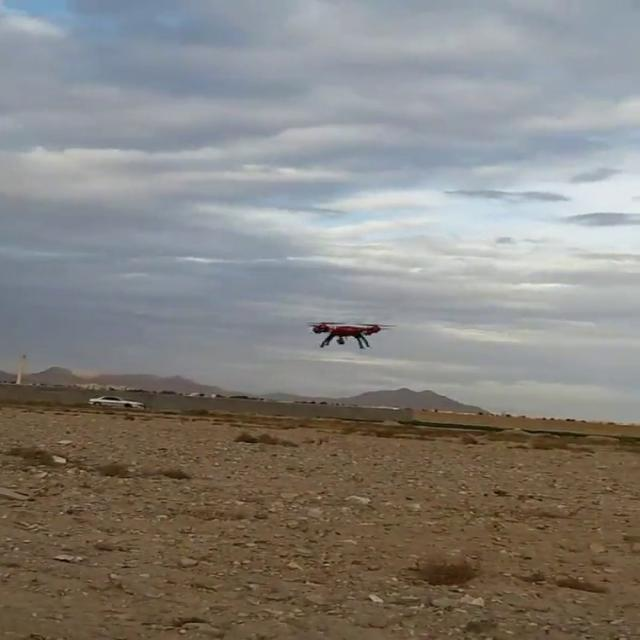drone: (292, 317, 402, 351)
